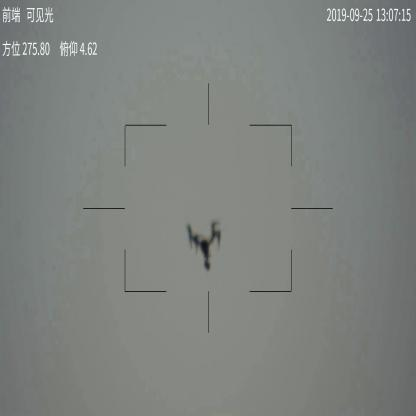uav: (183, 220, 224, 279)
